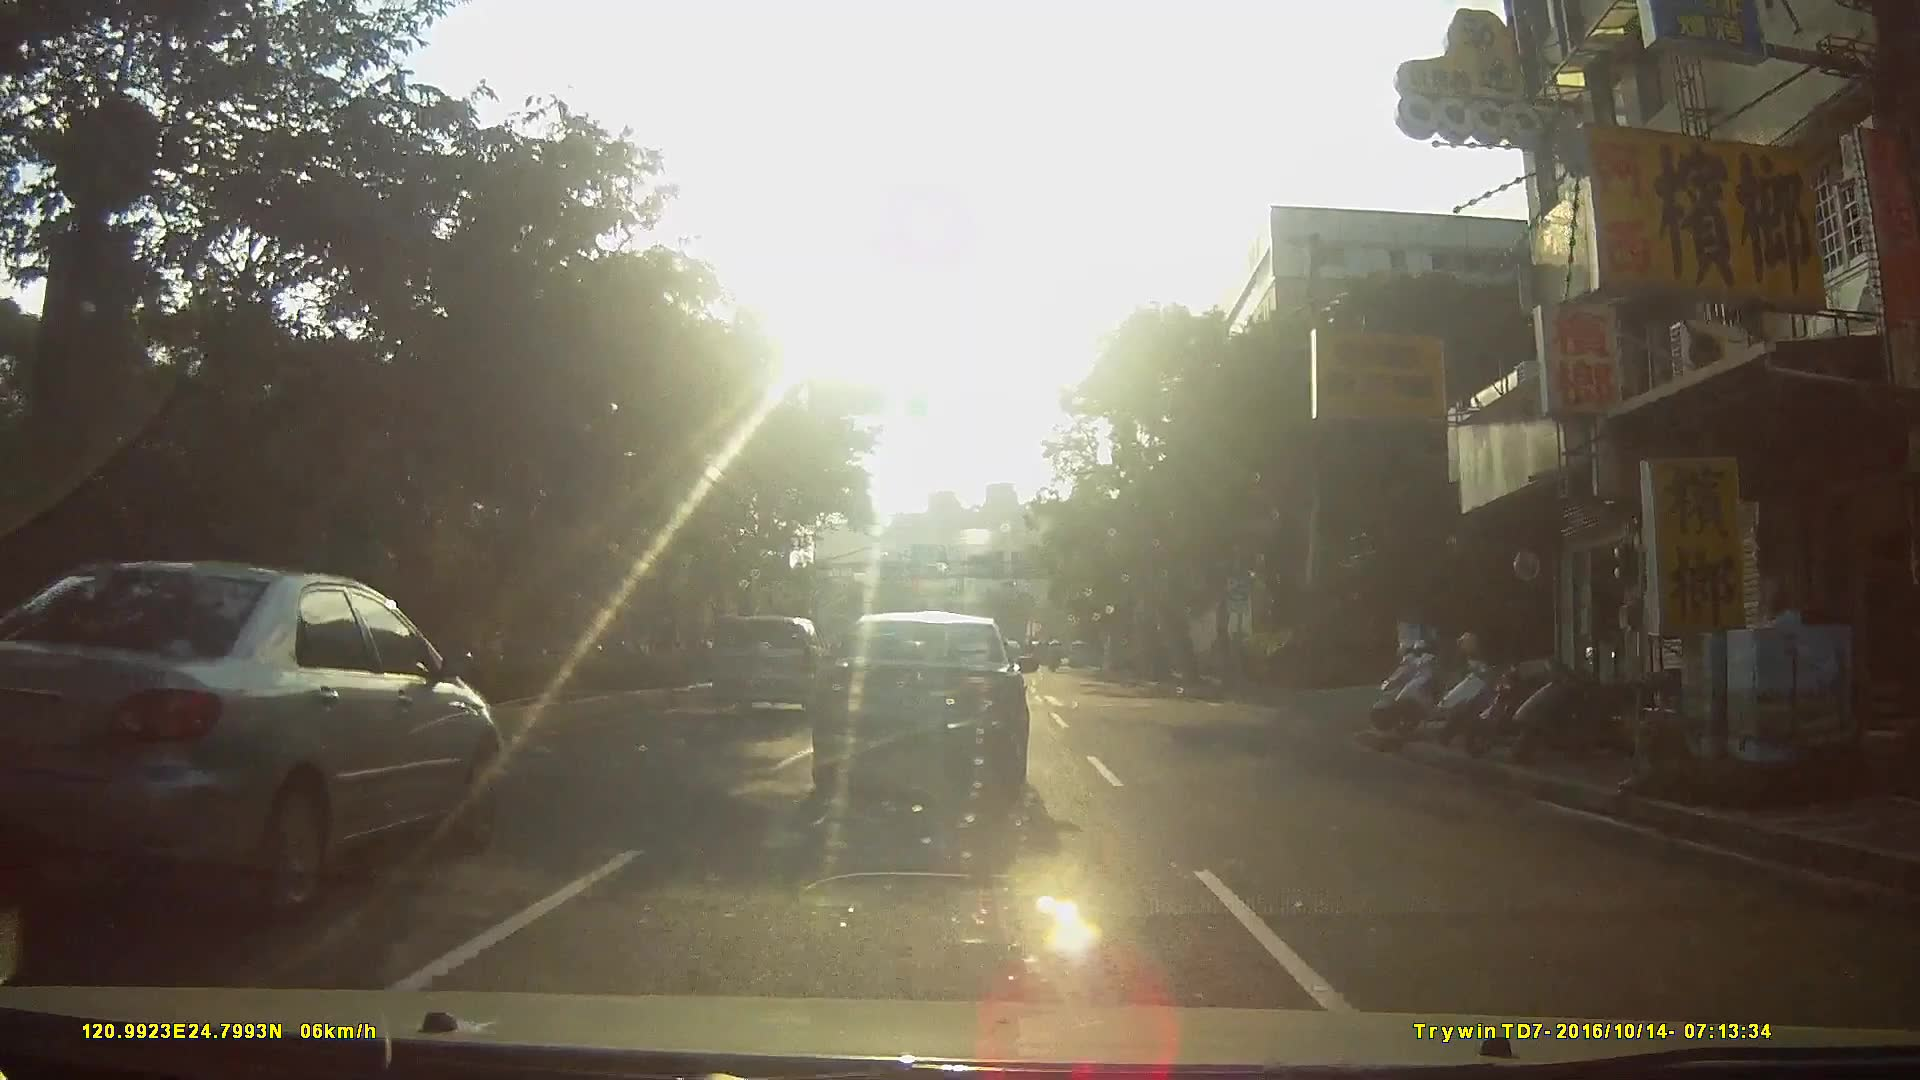pedestrian: (1761, 587, 1826, 745)
vehicle: (0, 562, 526, 907), (818, 608, 1049, 809), (716, 614, 834, 713), (1066, 640, 1101, 672)
